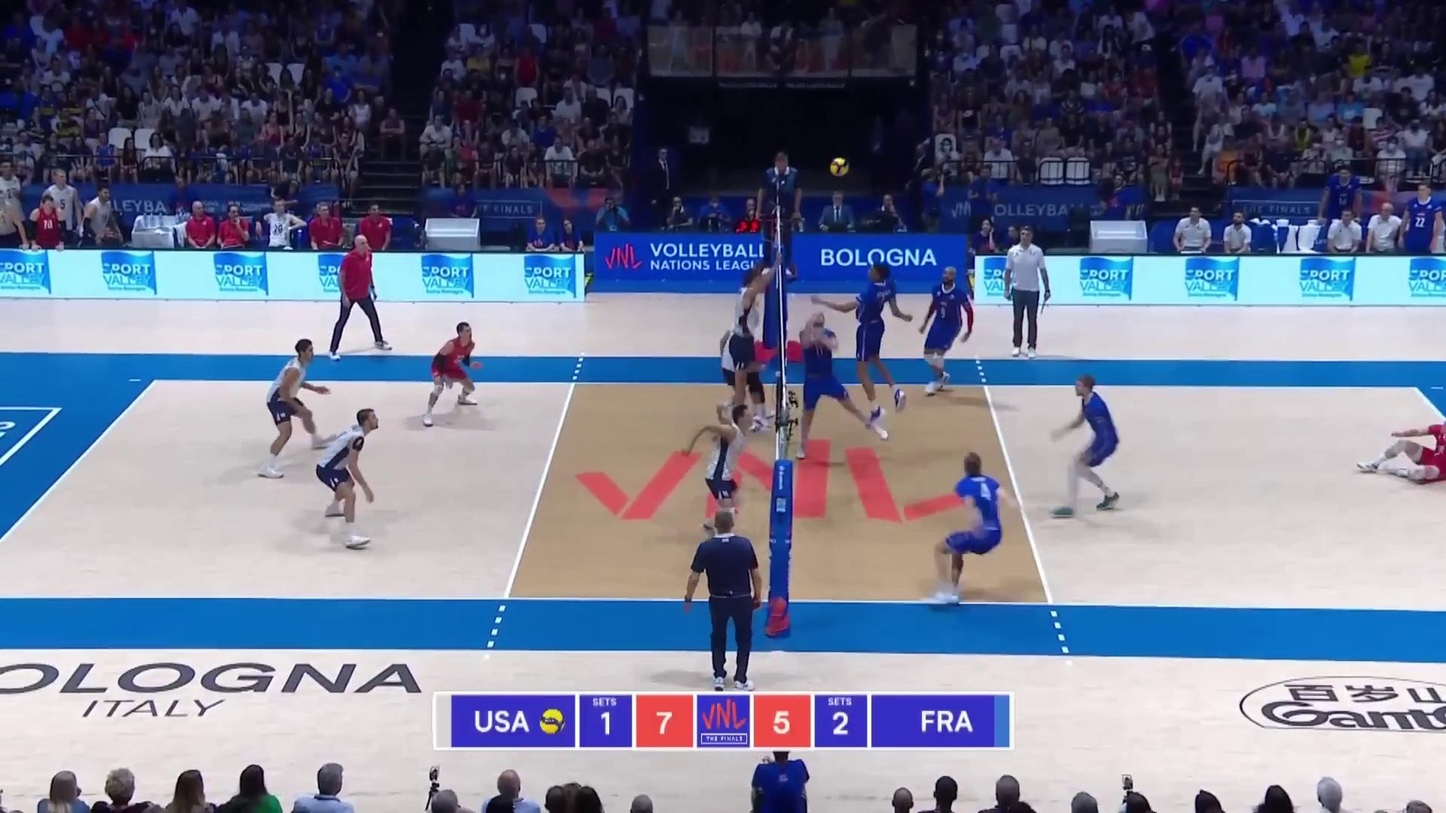player: (833, 265, 908, 444), (932, 456, 1006, 604), (794, 306, 860, 461), (1051, 373, 1123, 515), (314, 409, 379, 549), (684, 406, 753, 534), (266, 341, 331, 475), (726, 268, 775, 435), (915, 267, 973, 400), (1356, 405, 1446, 484), (719, 312, 778, 427), (418, 322, 478, 424)
refree: (684, 510, 762, 682), (762, 154, 804, 269)
